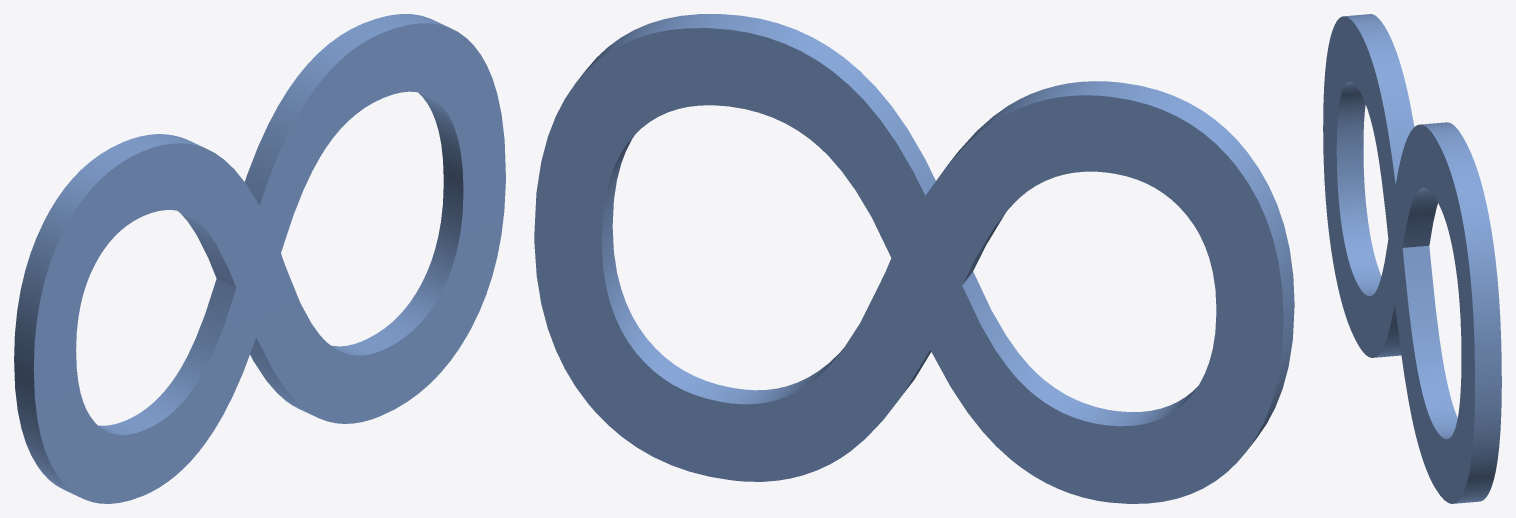
Rendered from New_Number_8.gltf.
The picture shows the model from 3 angles, left to right: view 1: azimuth 30°, elevation 25°; view 2: azimuth 150°, elevation 25°; view 3: azimuth 270°, elevation 25°; orthographic projection. The views are drawn at different scales.
Visible parts, largest first — view 1: Part 431; view 2: Part 431; view 3: Part 431.
Part boxes in pixels (x1,y1,x2,y2): Part 431: (14, 14, 505, 503); Part 431: (534, 14, 1294, 503); Part 431: (1323, 14, 1501, 503).
Size of the model in its own units: 0.00553 by 0.00362 by 0.00166.
